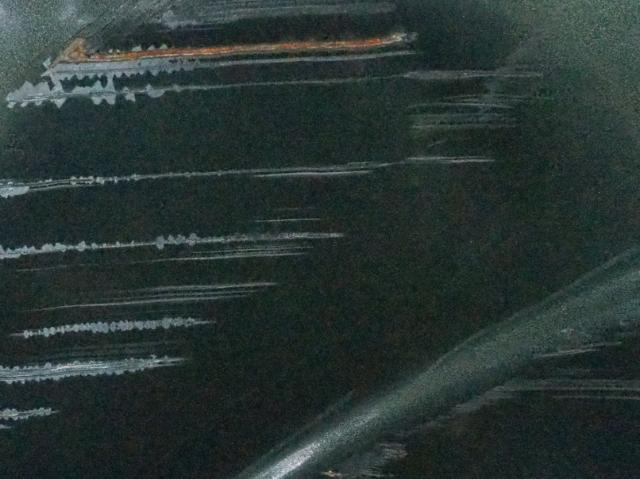Door: (2, 26, 640, 479)
